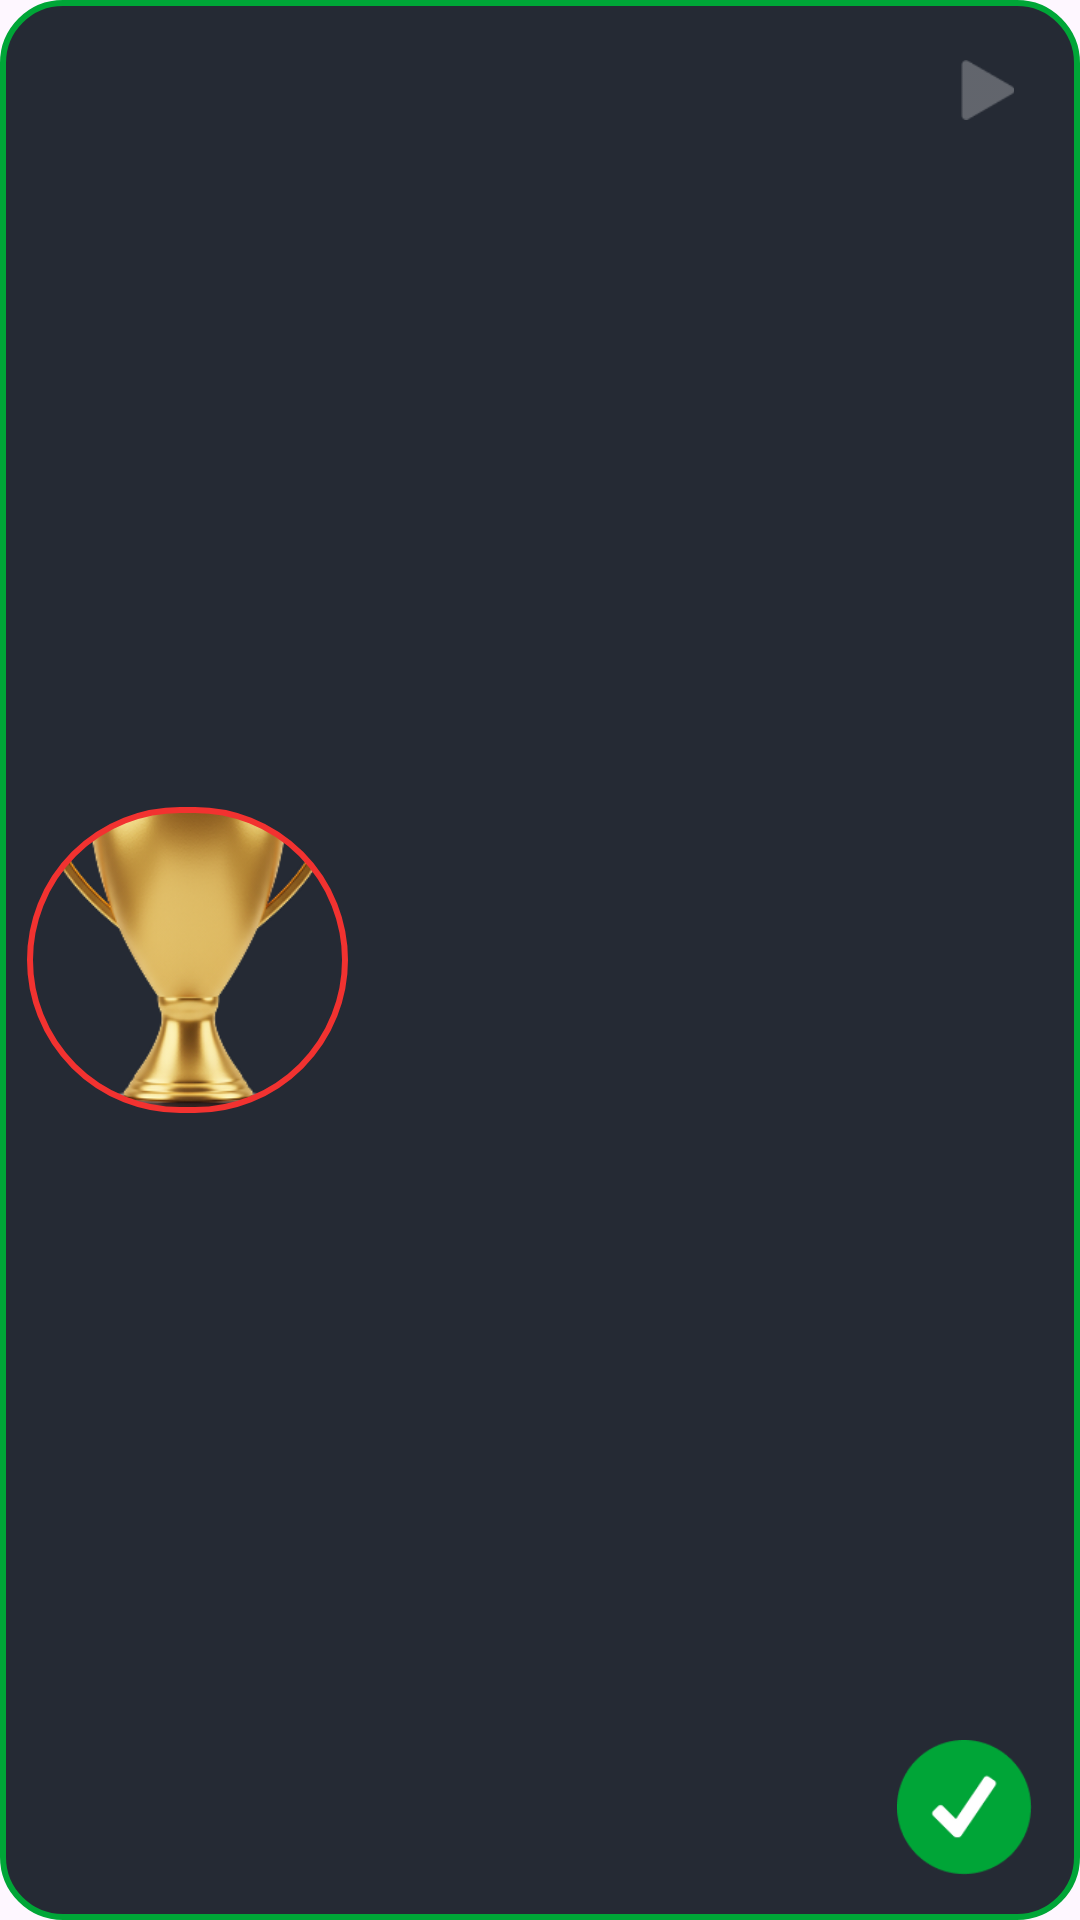

Screen size 1080 x 1920. Icon name, then its box in pixels as bbox(x1, y1, x2, y2):
completed: bbox(897, 1740, 1031, 1874)
play: bbox(962, 60, 1014, 120)
